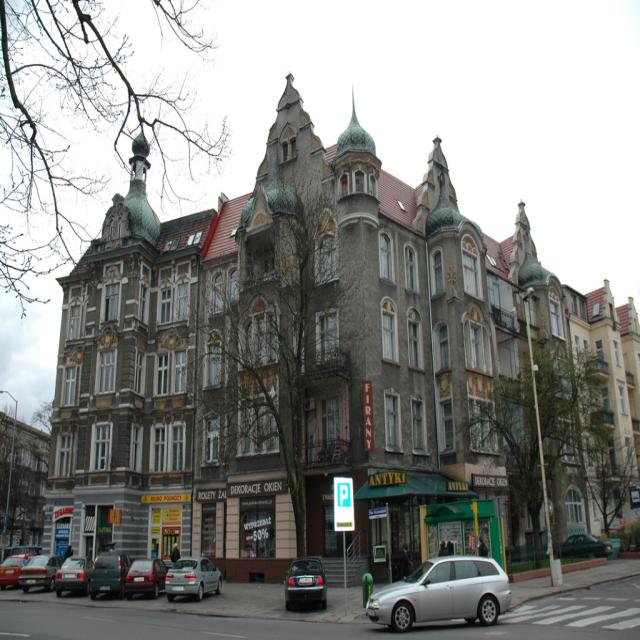car: (367, 547, 518, 637), (164, 556, 221, 599), (283, 554, 328, 608)
